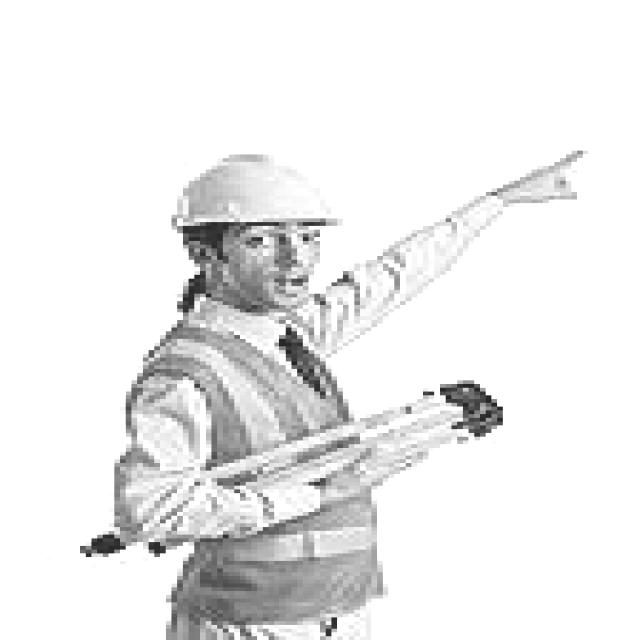face_nomask: (200, 230, 337, 308)
hand_noglove: (320, 433, 429, 516), (497, 139, 594, 226)
head_helmet: (160, 158, 349, 222)
person: (97, 109, 606, 633)
vest: (137, 320, 389, 617)
